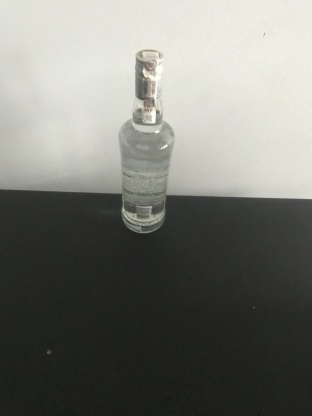nakretka: (133, 46, 164, 100)
